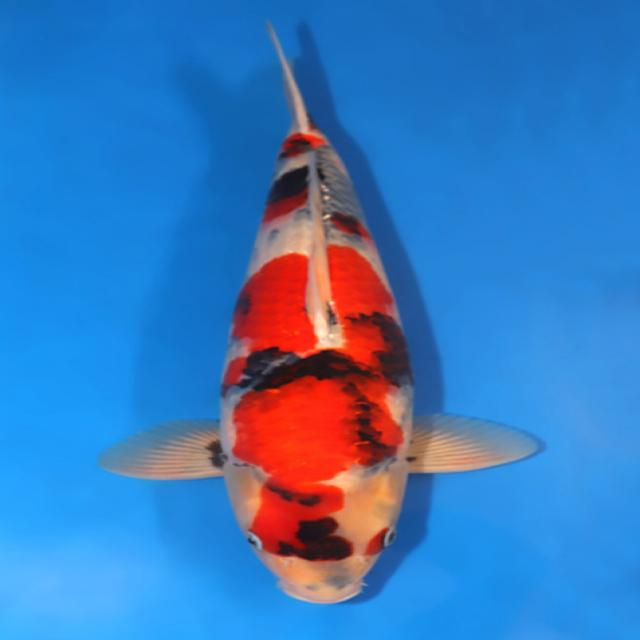Showa: (96, 18, 544, 604)
